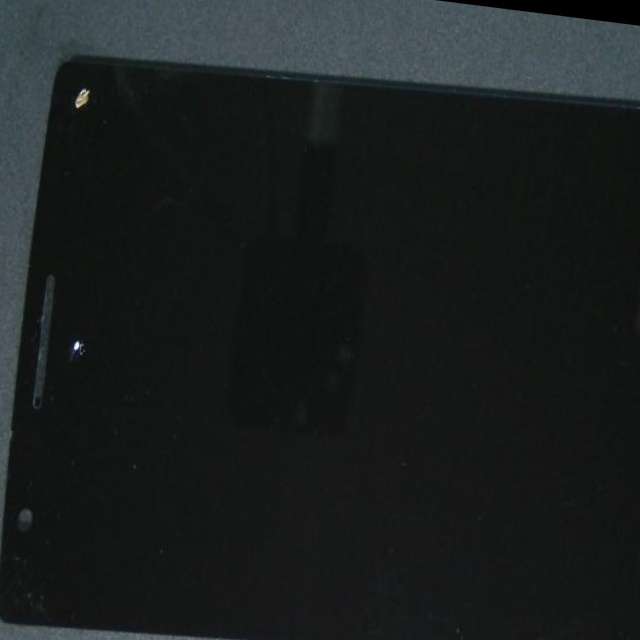stain: (0, 181, 157, 586)
